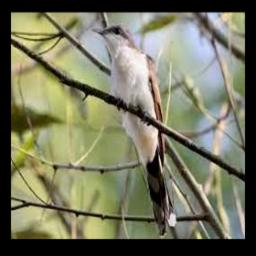Cuckoo: (91, 25, 177, 238)
